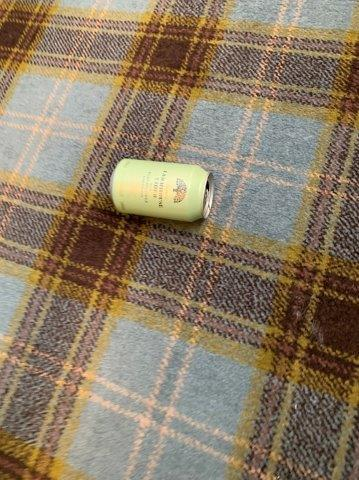kaleng: (111, 159, 212, 221)
